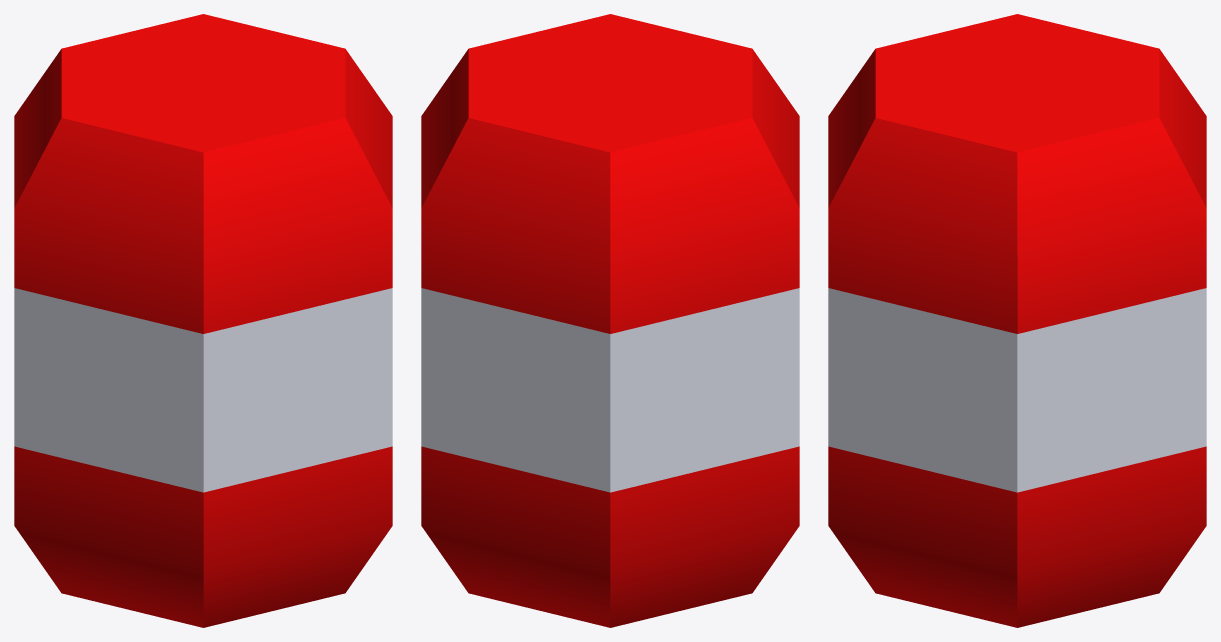
The model's file is bomb.fbx.
The picture shows the model from 3 angles, left to right: view 1: azimuth 30°, elevation 25°; view 2: azimuth 150°, elevation 25°; view 3: azimuth 270°, elevation 25°; orthographic projection.
Parts seen in each view (by area): view 1: mergedBlocks; view 2: mergedBlocks; view 3: mergedBlocks.
Boxes of the visible parts, box(x1,y1,x2,y2) form: mergedBlocks: box(14, 14, 392, 627); mergedBlocks: box(421, 14, 799, 627); mergedBlocks: box(828, 14, 1206, 627).
Size of the model in its own units: 5 by 6 by 4.33.
